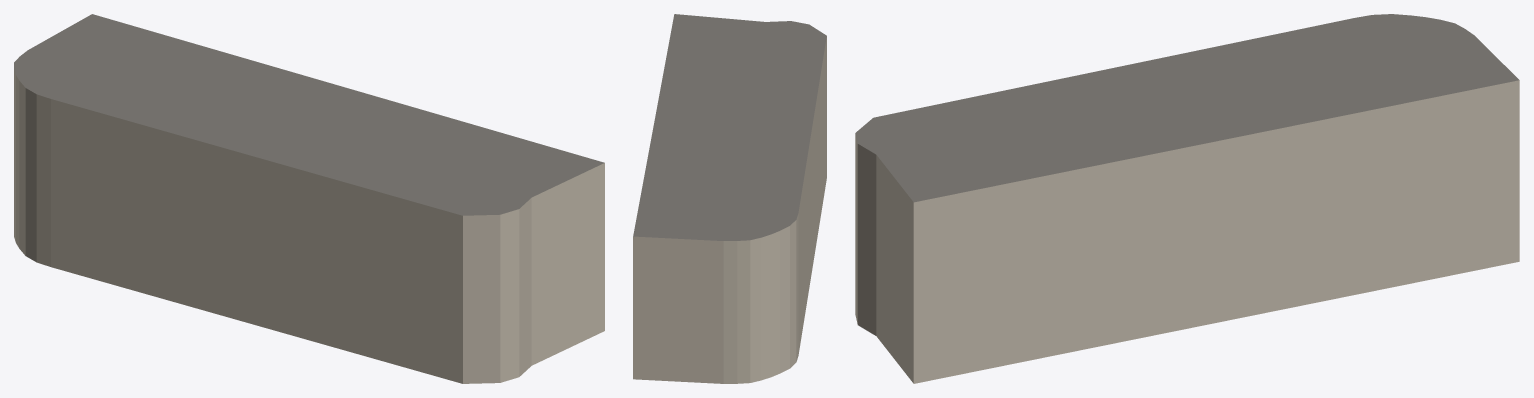
The picture shows the model from 3 angles, left to right: view 1: azimuth 30°, elevation 25°; view 2: azimuth 150°, elevation 25°; view 3: azimuth 270°, elevation 25°; orthographic projection. The views are drawn at different scales.
Visible parts, largest first — view 1: HP-w756799566; view 2: HP-w756799566; view 3: HP-w756799566.
Boxes of the visible parts, x1,y1,x2,y2 form: HP-w756799566: [14, 14, 604, 383]; HP-w756799566: [633, 14, 826, 383]; HP-w756799566: [855, 14, 1519, 383].
Size of the model in its own units: 40.07 by 18 by 59.69.
